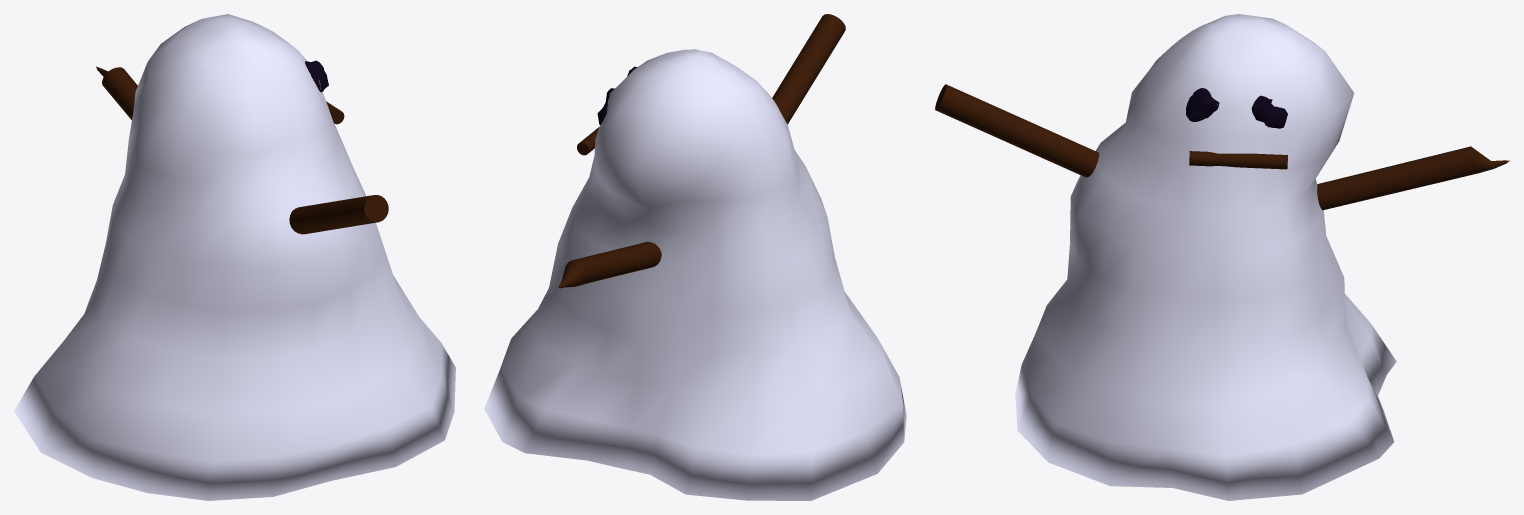
File: Snowman_002_Outside_001_Frosty.fbx
3 views of the same model, side by side, from view 1: azimuth 30°, elevation 25°; view 2: azimuth 150°, elevation 25°; view 3: azimuth 270°, elevation 25° (orthographic). The views are drawn at different scales.
Parts seen in each view (by area): view 1: Snowman_002_Outside_001_Frosty; view 2: Snowman_002_Outside_001_Frosty; view 3: Snowman_002_Outside_001_Frosty.
Part boxes in pixels (box(x1,y1,x2,y2)): Snowman_002_Outside_001_Frosty: box(14, 14, 455, 500); Snowman_002_Outside_001_Frosty: box(484, 14, 906, 500); Snowman_002_Outside_001_Frosty: box(935, 14, 1509, 500).
Bounding box in the file's own units: 174 × 162 × 219.
